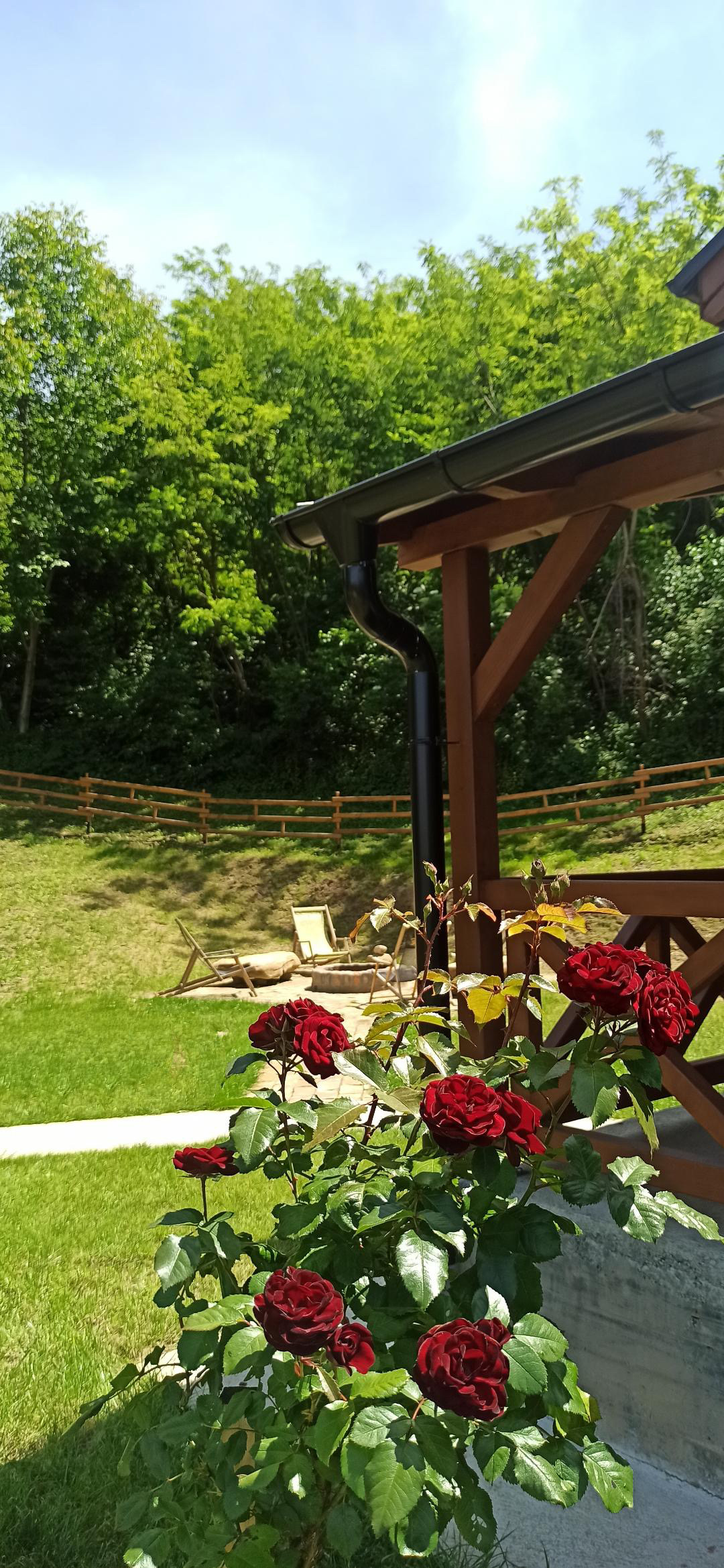rose: (404, 1317, 505, 1424), (256, 1259, 346, 1353), (628, 957, 699, 1069), (429, 1070, 509, 1156), (550, 942, 628, 1022), (294, 1002, 354, 1086), (249, 1005, 311, 1071), (172, 1142, 239, 1185)
